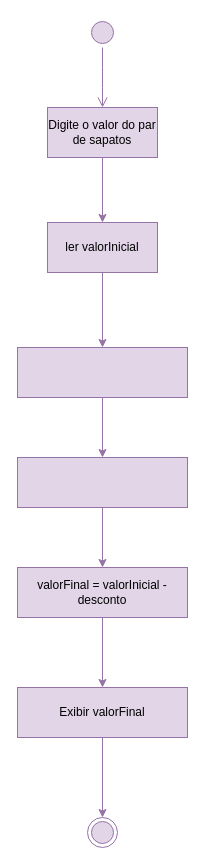
Some shapes in this 205 by 865 pixel diagram are drawn without their labels. Each missing label, with the box of its shape:
desconto = precoInicial * 0.12: (16, 346, 188, 398)
Exibir desconto: (16, 456, 188, 508)
